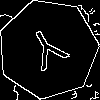Y: (23, 24, 75, 80)
